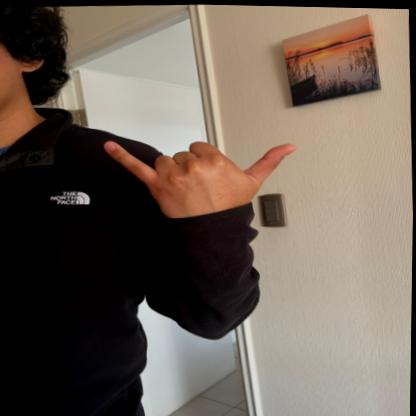Y: (100, 128, 300, 225)
